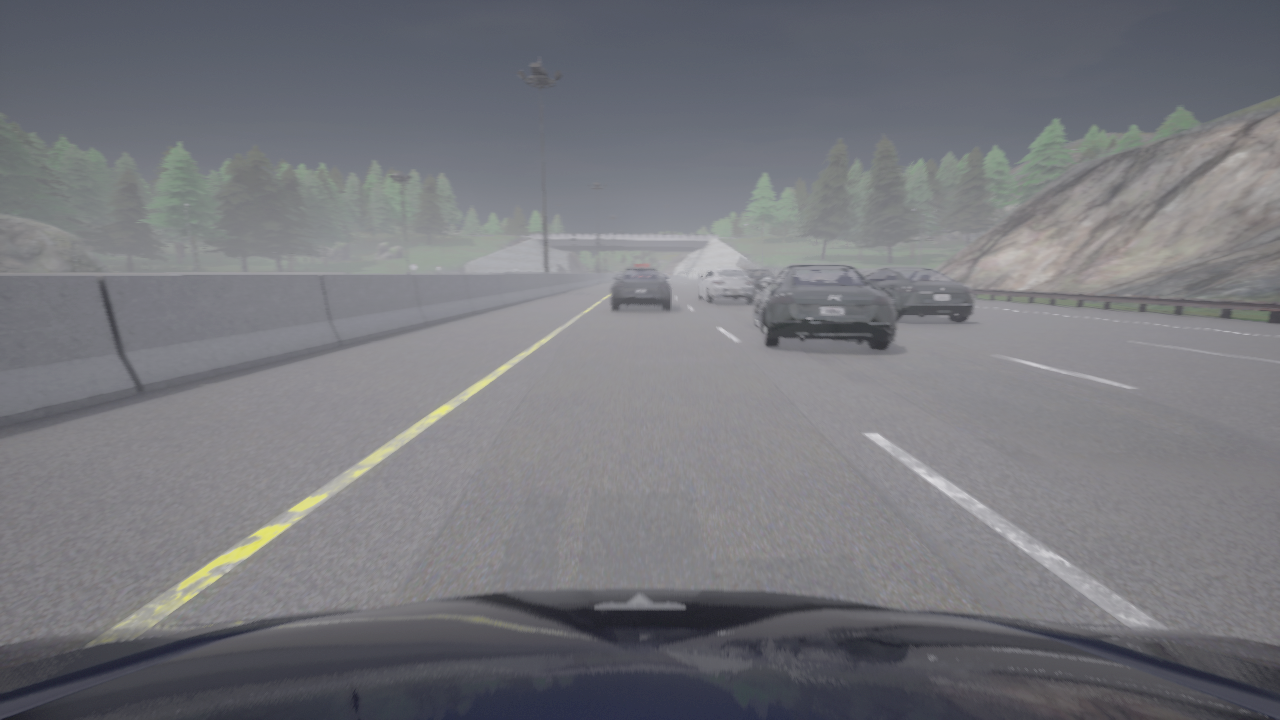cyclist: (0, 588, 1279, 719), (754, 264, 895, 350), (865, 267, 974, 322), (611, 268, 670, 310), (695, 267, 755, 303), (745, 269, 775, 291)
